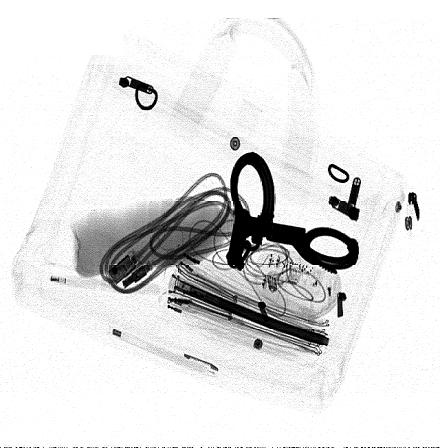HandCuffs: (225, 149, 359, 275)
